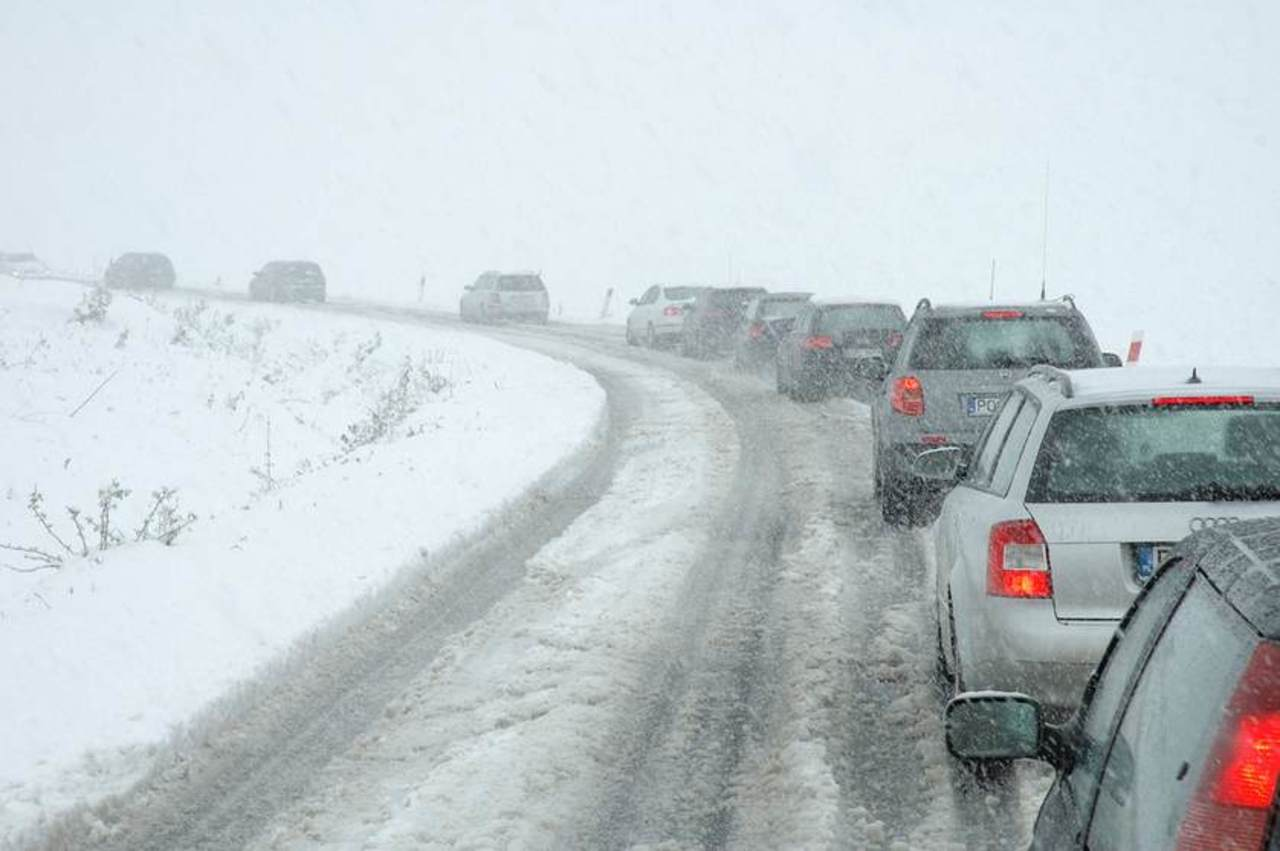car: (941, 385, 1278, 758), (878, 303, 1003, 504), (778, 298, 908, 403), (735, 297, 811, 371), (684, 286, 747, 360), (625, 285, 696, 349), (469, 271, 551, 326), (245, 259, 329, 303)
